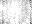person: (1, 7, 6, 13)
